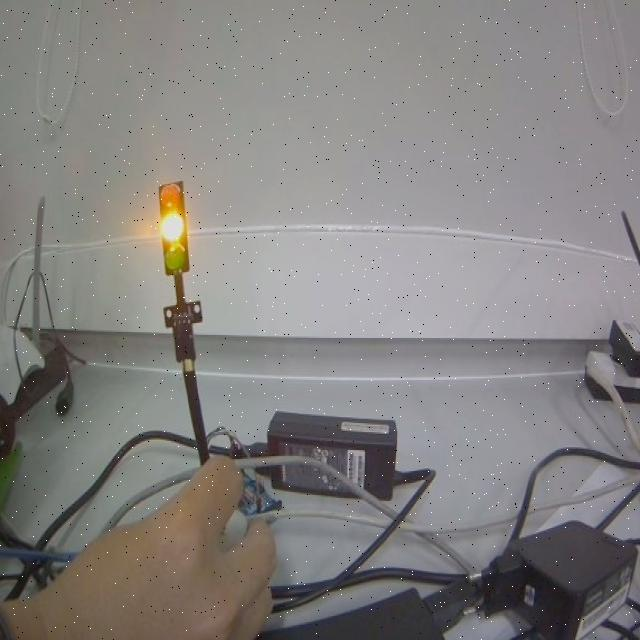Lampu Kuning: (158, 180, 190, 278)
